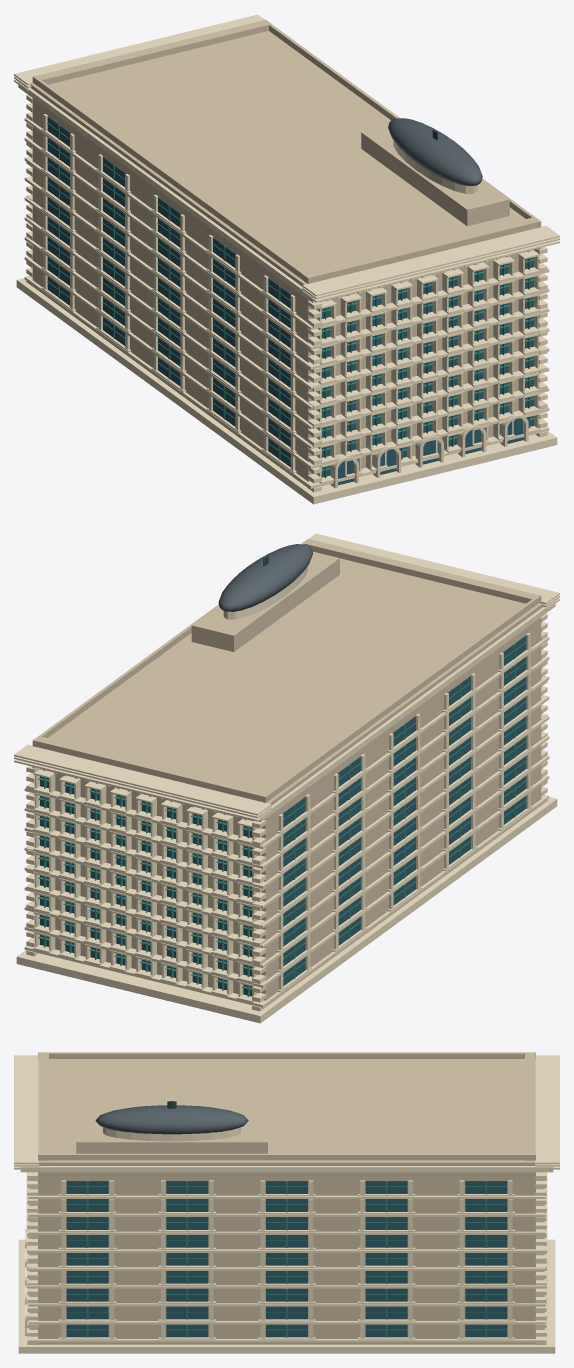
The model's file is glen-line.glb.
3 views of the same model, one above another, from view 1: azimuth 30°, elevation 25°; view 2: azimuth 150°, elevation 25°; view 3: azimuth 270°, elevation 25° (orthographic). The views are drawn at different scales.
Parts seen in each view (by area): view 1: glen-line; view 2: glen-line; view 3: glen-line.
Boxes of the visible parts, left/top/right/bottom form: glen-line: left=14, top=14, right=559, bottom=504; glen-line: left=14, top=533, right=559, bottom=1023; glen-line: left=14, top=1052, right=559, bottom=1353.
Size of the model in its own units: 29.93 by 30.6 by 64.25.
